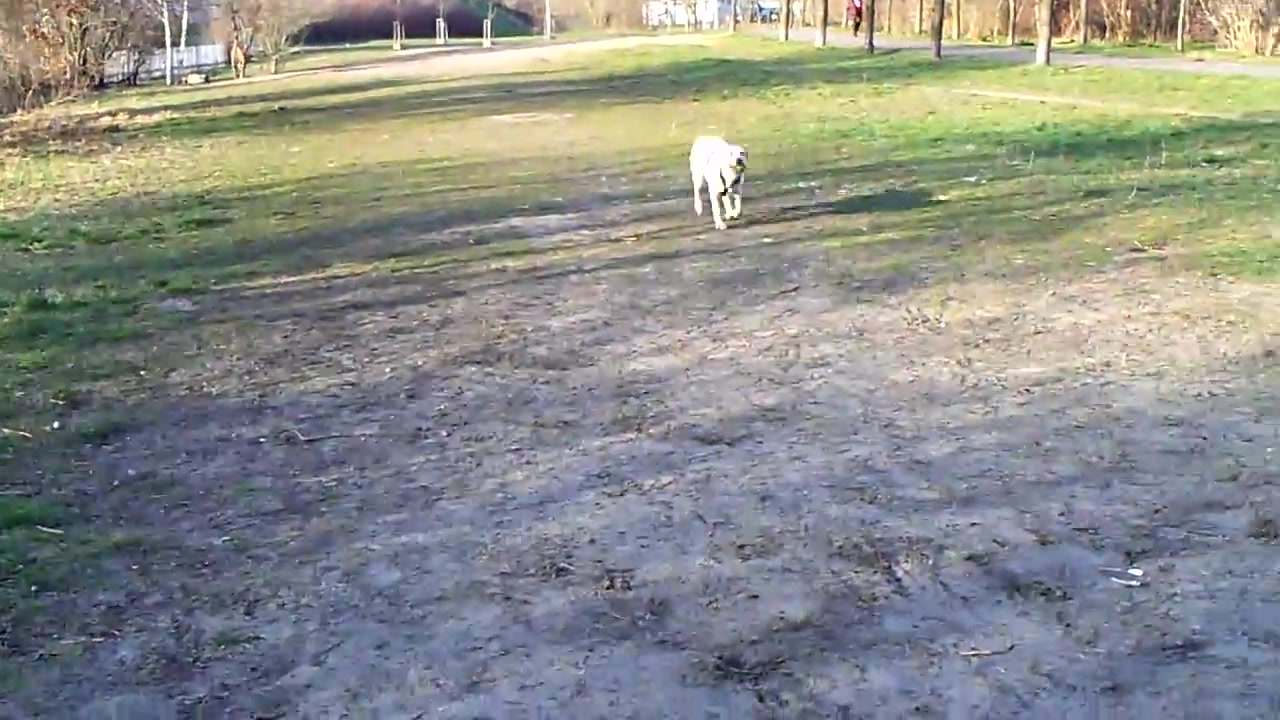dog: (688, 136, 748, 233)
